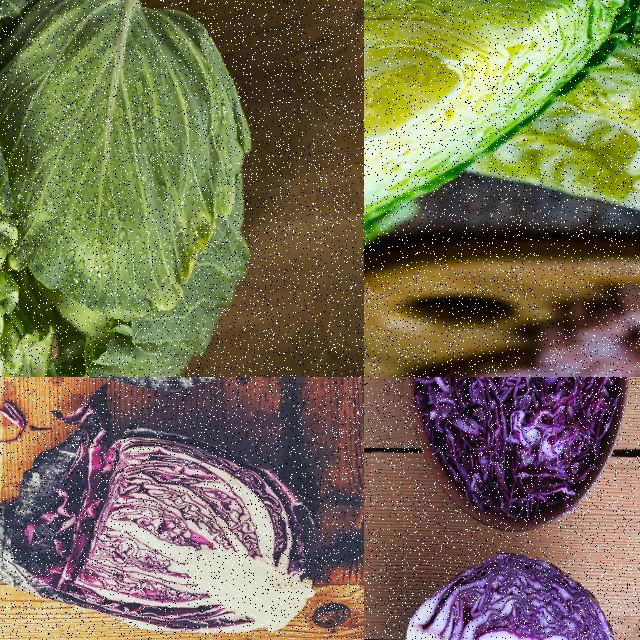cabbage: (0, 0, 260, 376), (364, 0, 639, 272), (0, 426, 318, 639), (413, 377, 621, 518), (395, 554, 620, 639)
